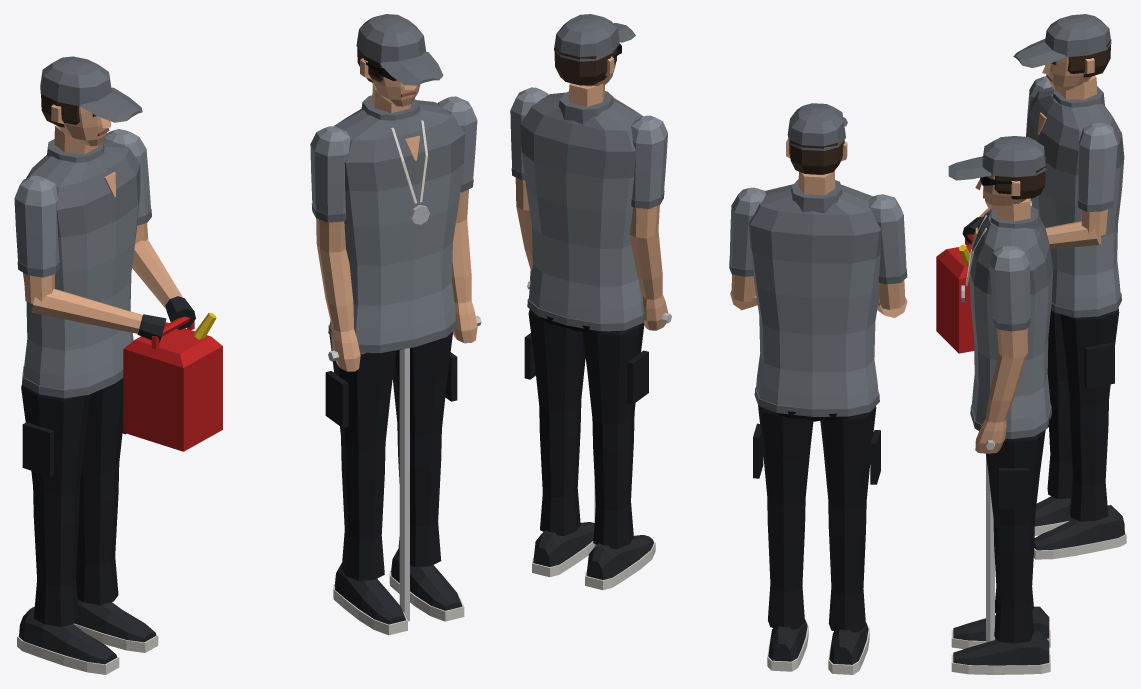
File: pit_crew.glb
The picture shows the model from 3 angles, left to right: view 1: azimuth 30°, elevation 25°; view 2: azimuth 150°, elevation 25°; view 3: azimuth 270°, elevation 25°; orthographic projection. The views are drawn at different scales.
Visible parts, largest first — view 1: Mate, Body, Arms; view 2: Mate, Body, Arms; view 3: Mate, Body, Arms.
Boxes of the visible parts, <box> form: Mate: <box>14,56,222,674</box>; Body: <box>325,14,465,635</box>; Arms: <box>310,96,481,621</box>; Mate: <box>729,103,907,674</box>; Body: <box>520,14,655,590</box>; Arms: <box>510,87,671,546</box>; Mate: <box>936,14,1126,559</box>; Body: <box>948,136,1053,674</box>; Arms: <box>975,209,1030,642</box>.
Bounding box in the file's own units: 1.39 × 1.81 × 0.5974.
